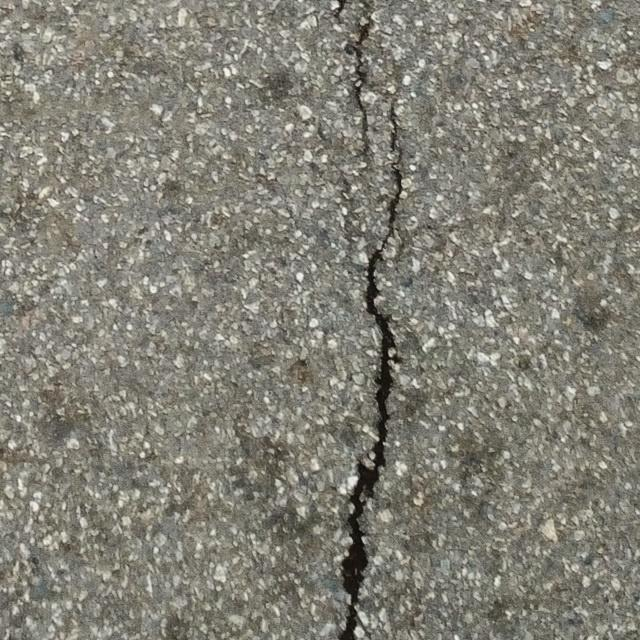LongitudinalCrack: (338, 101, 403, 637), (355, 1, 379, 139)
